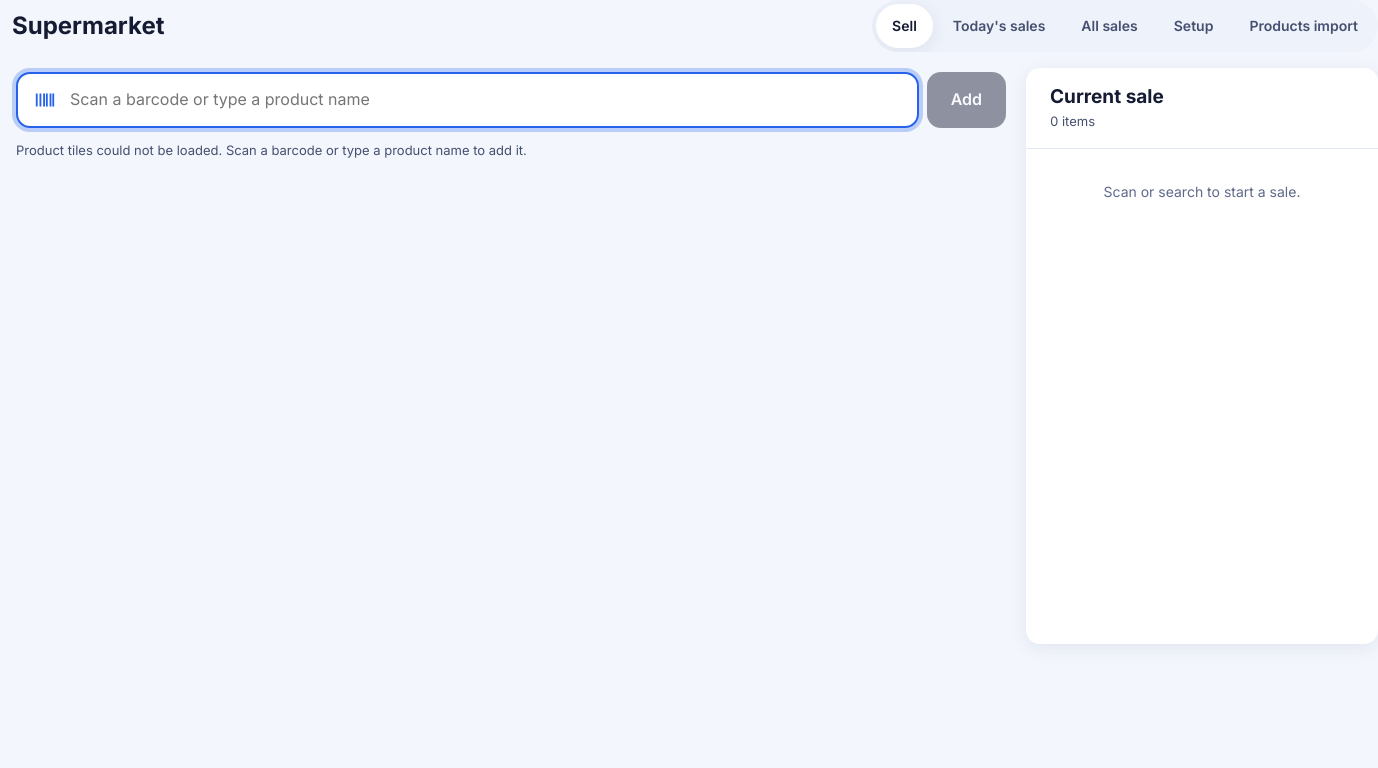
Test case: <SupermarketScreen> › sales reports: date range and totals › does not ask the server for a range that starts after it ends, and says so
Click the tab "All sales": (1110, 26) [1065, 4, 1154, 48]
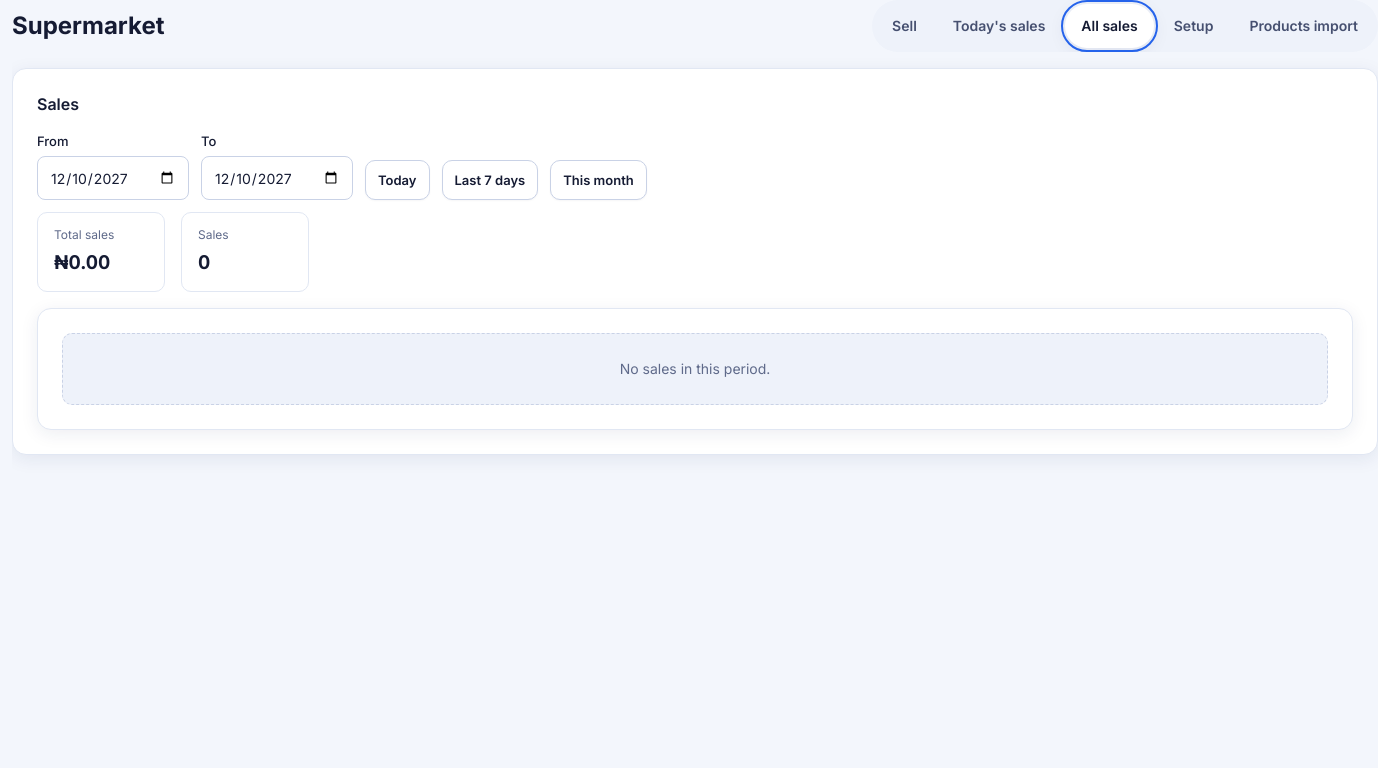
Expected: the element named "Sales totals" is shown, [37, 212, 309, 292]
In the date field labelled "From": (113, 178) [37, 156, 189, 200], type "2027-12-20"
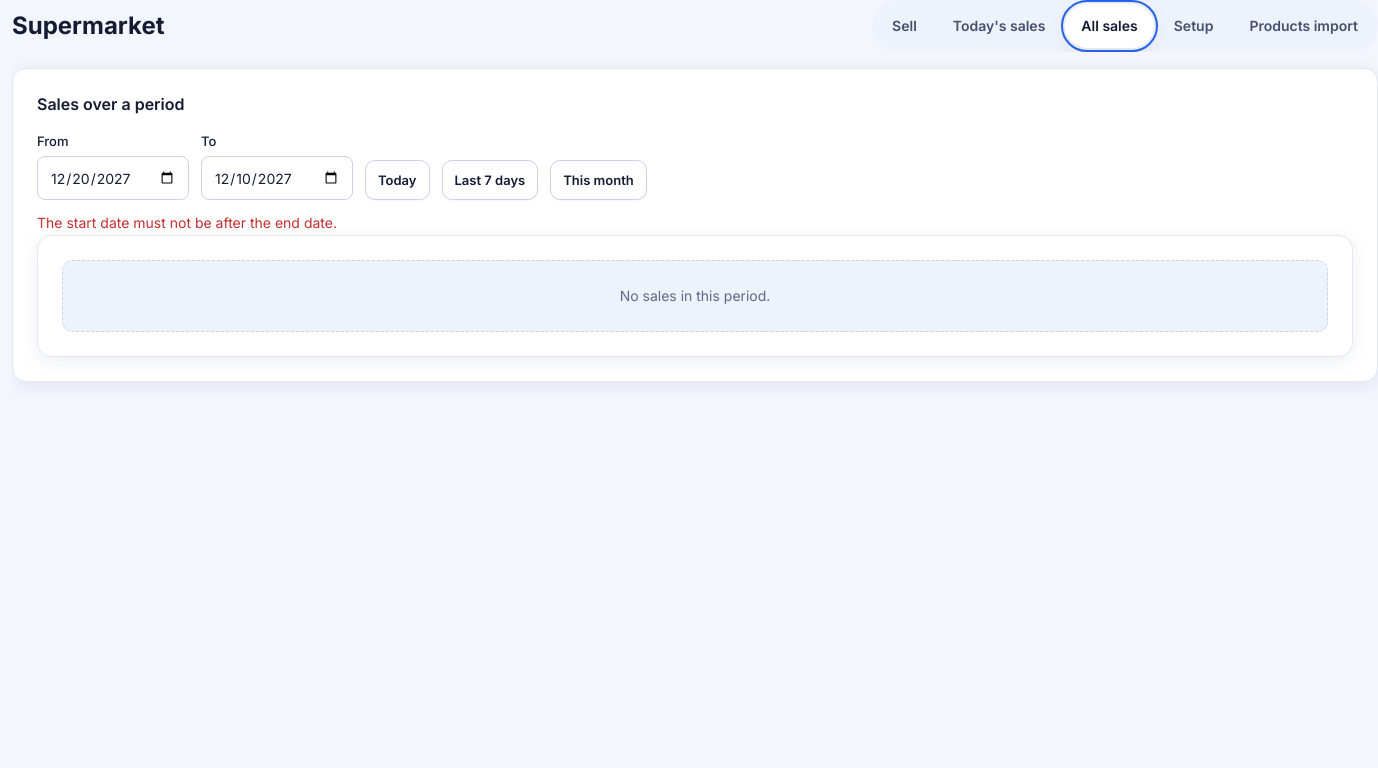
Expected: the text "The start date must not be after the end date." is shown, [37, 214, 337, 231]
